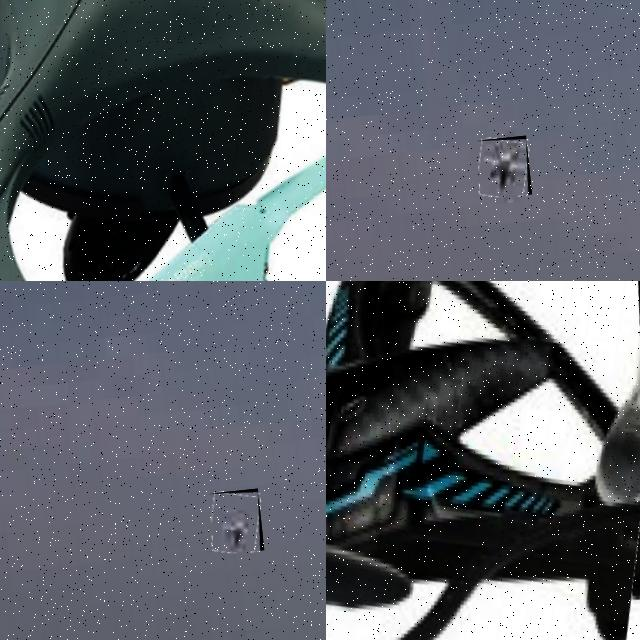drone: (326, 281, 640, 640), (0, 0, 326, 281), (208, 488, 264, 555), (474, 135, 532, 199)
